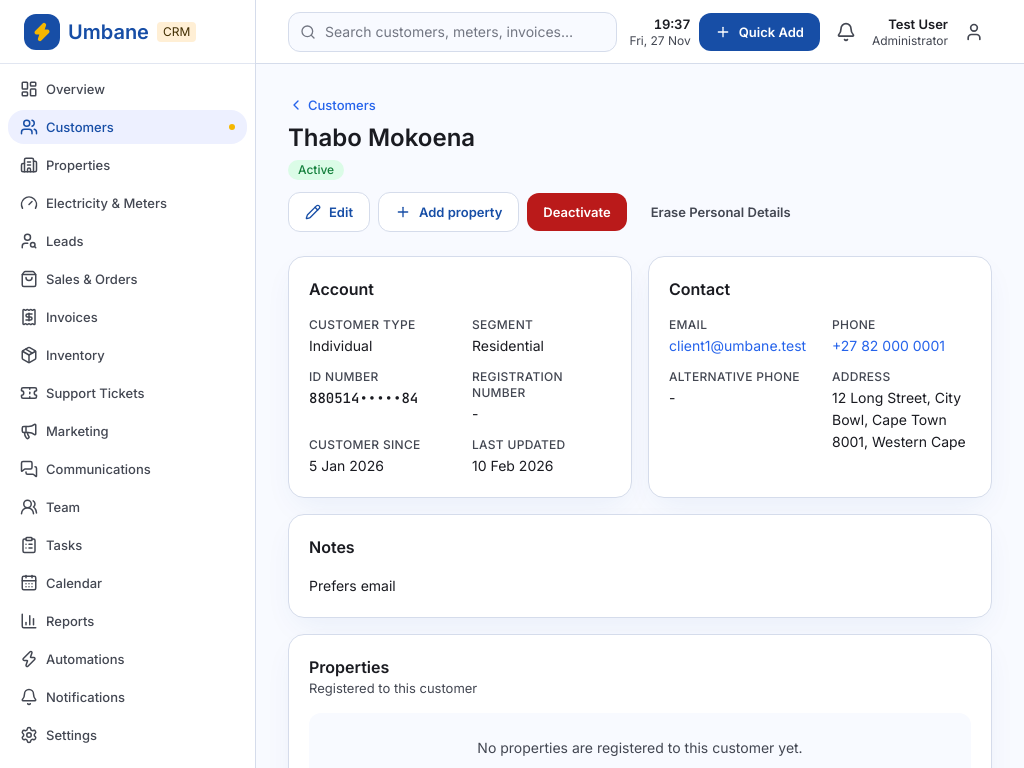
Scenario: erasing a customer › says why the database refused
Click the button "Erase Personal Details" at {"x": 721, "y": 212}, box [635, 193, 807, 231]
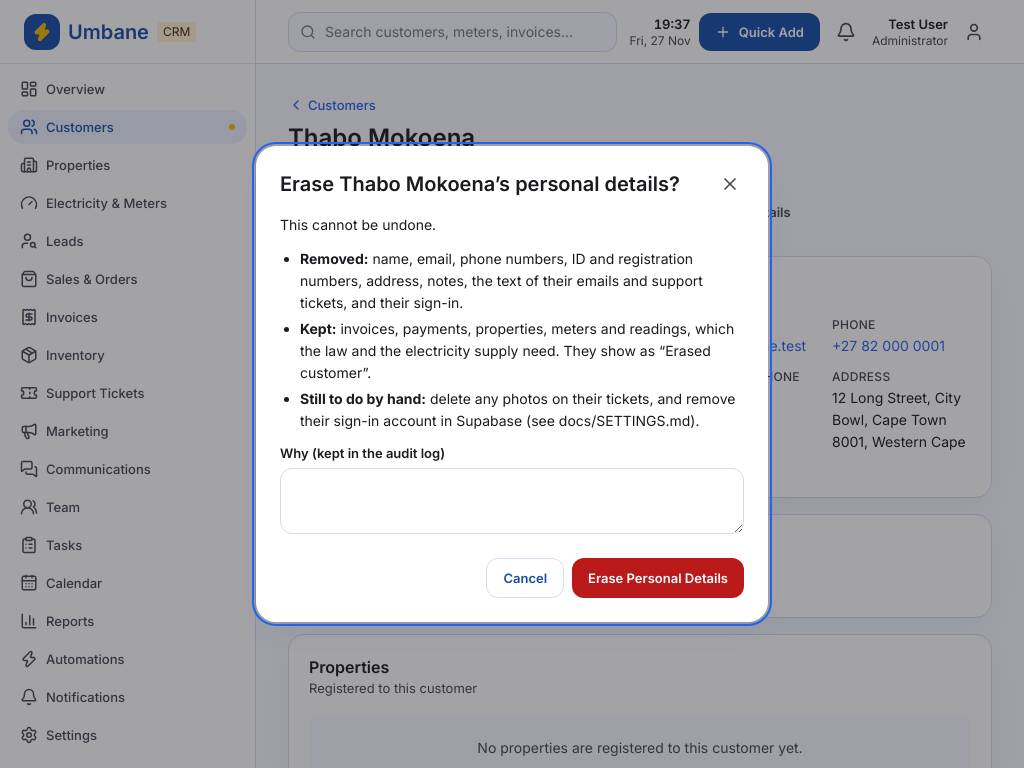
Type "Asked" into the text box labelled "Why (kept in the audit log)" at {"x": 512, "y": 501}, box [280, 468, 744, 534]
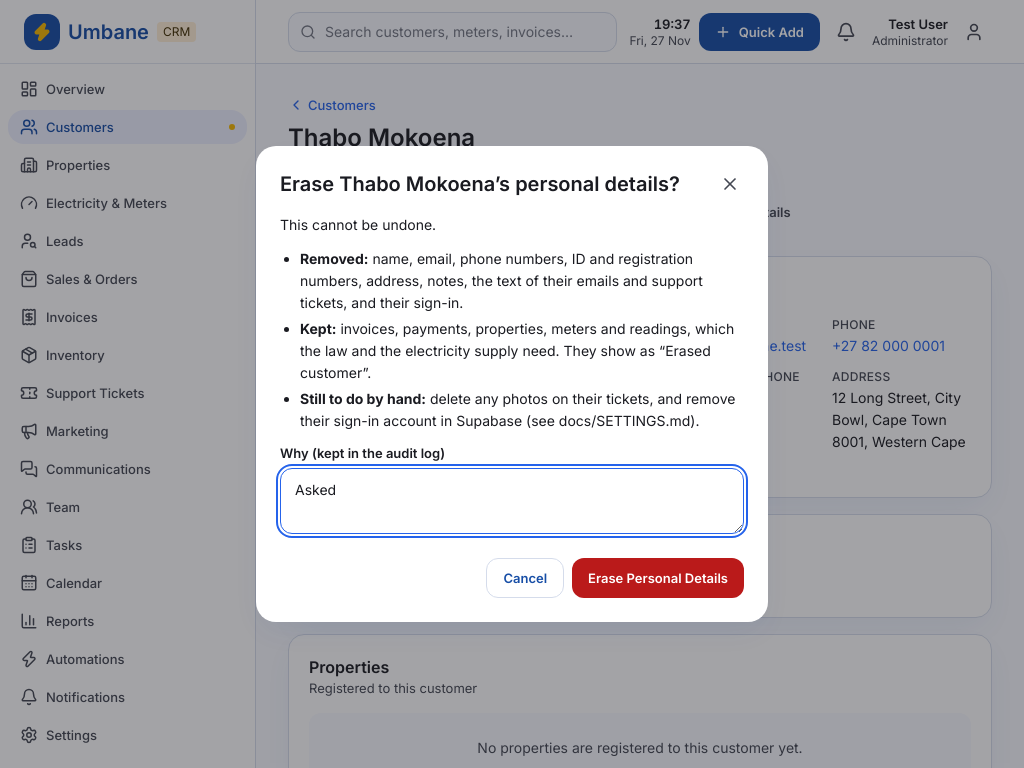
Click the button "Erase Personal Details" at {"x": 658, "y": 578}, box [572, 558, 744, 598]
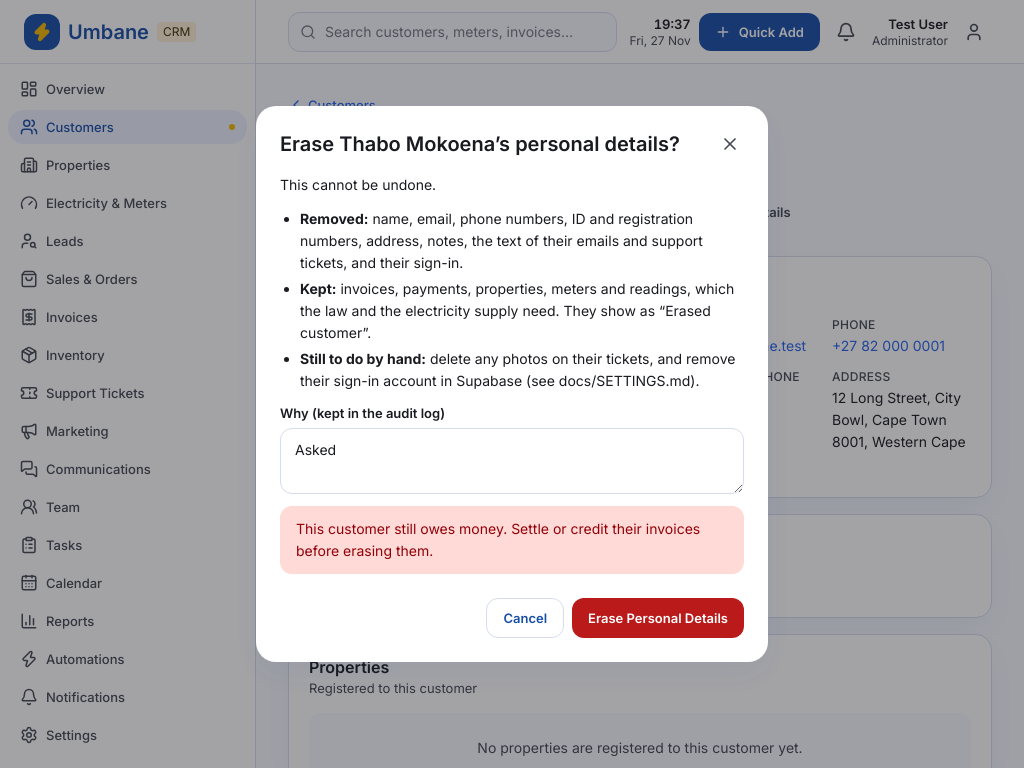
Check: the text "still owes money" is shown, box [296, 520, 700, 559]
